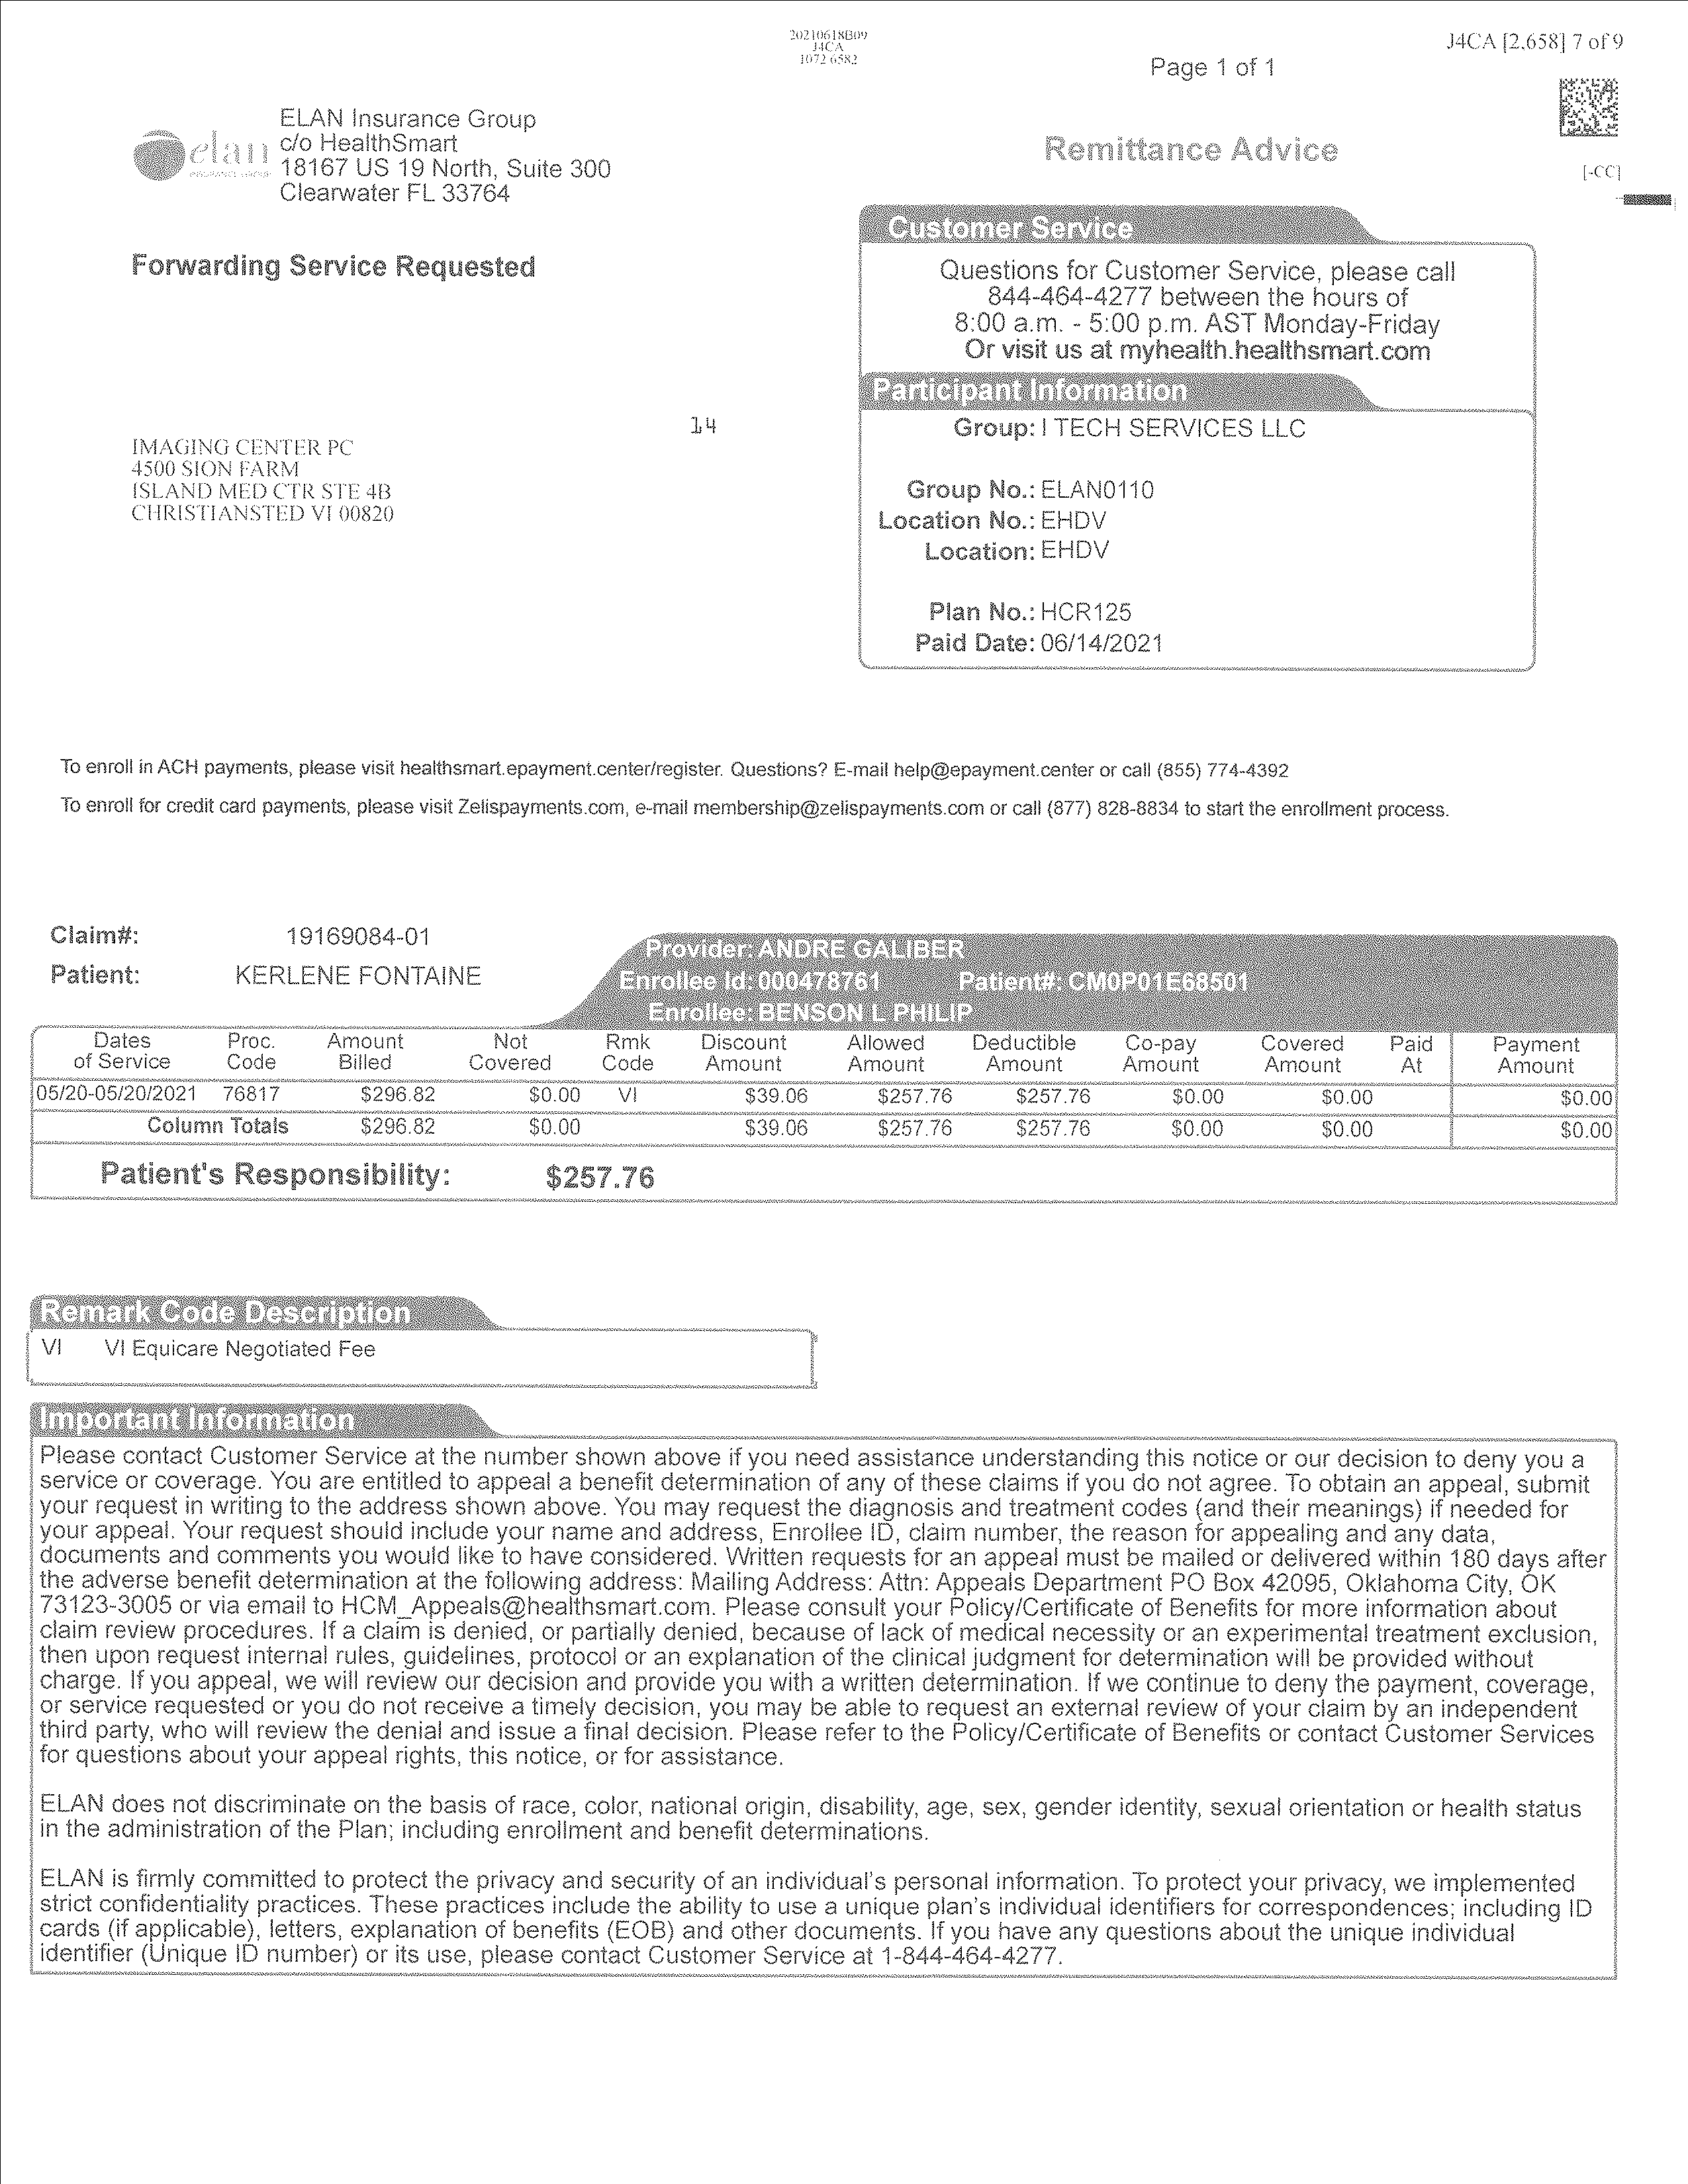data: (842, 188, 1571, 698), (37, 909, 502, 1003)
table: (21, 1010, 1642, 1154)
